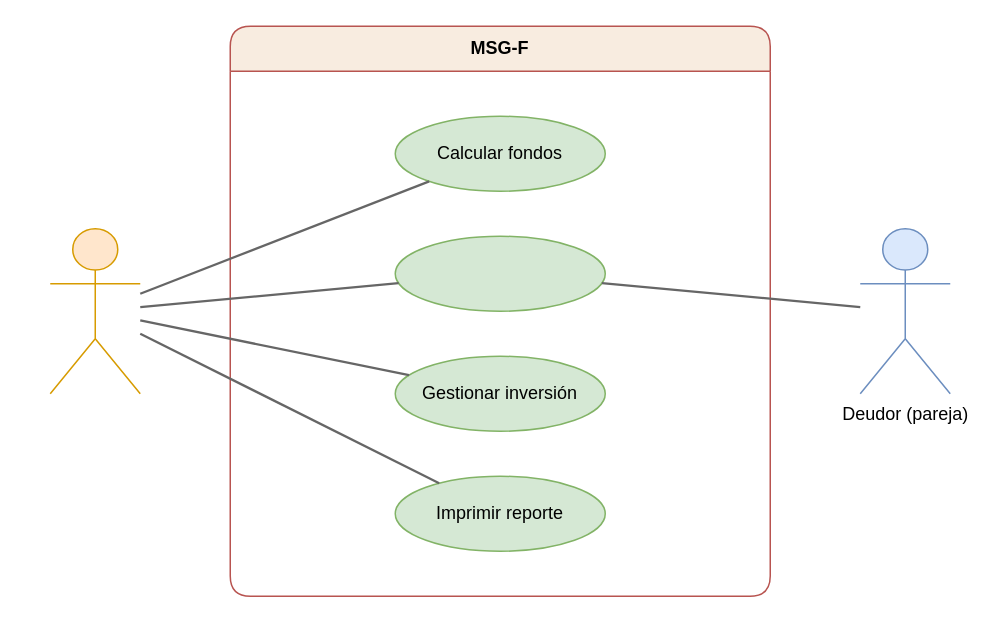
Some shapes in this 995 by 623 pixel diagram are drawn without their labels. The shapes that lost their labels are listed below. From the top down, each one's centre as x and y in pixels, then its label:
At point (499, 273): "Gestionar hipoteca".
At point (94, 310): "Empleado MSGF".
